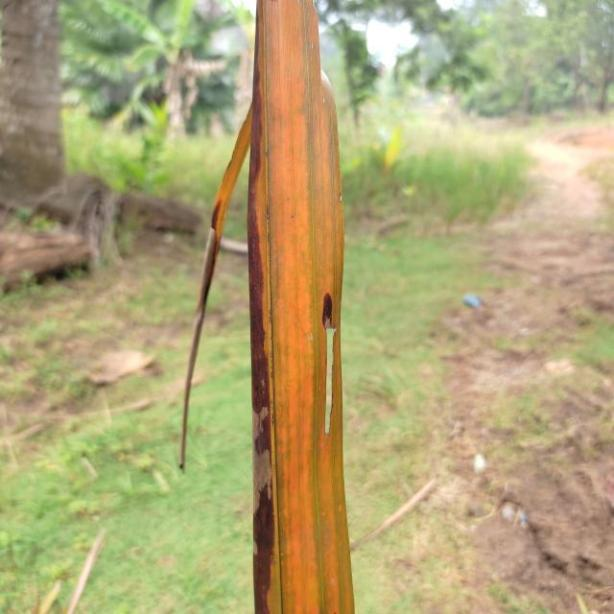Megnesium: (165, 0, 355, 614)
